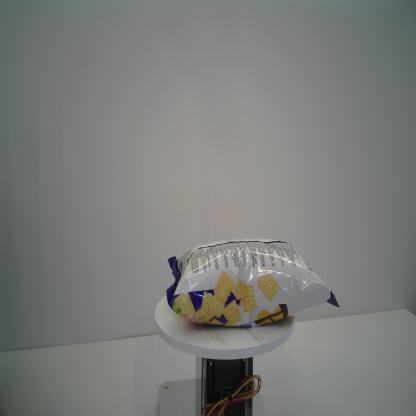Puffed Food: (165, 236, 340, 330)
